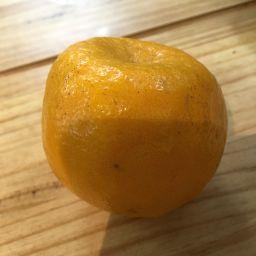Ripe: (42, 41, 229, 217)
